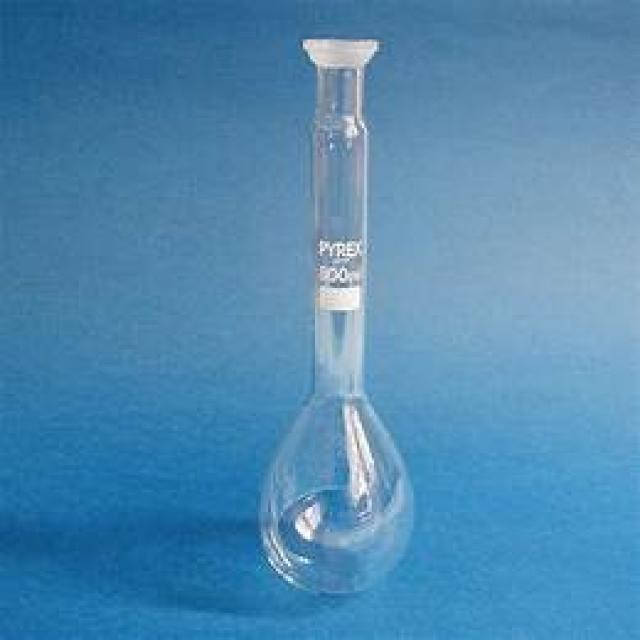Volumetric flask: (239, 29, 424, 593)
